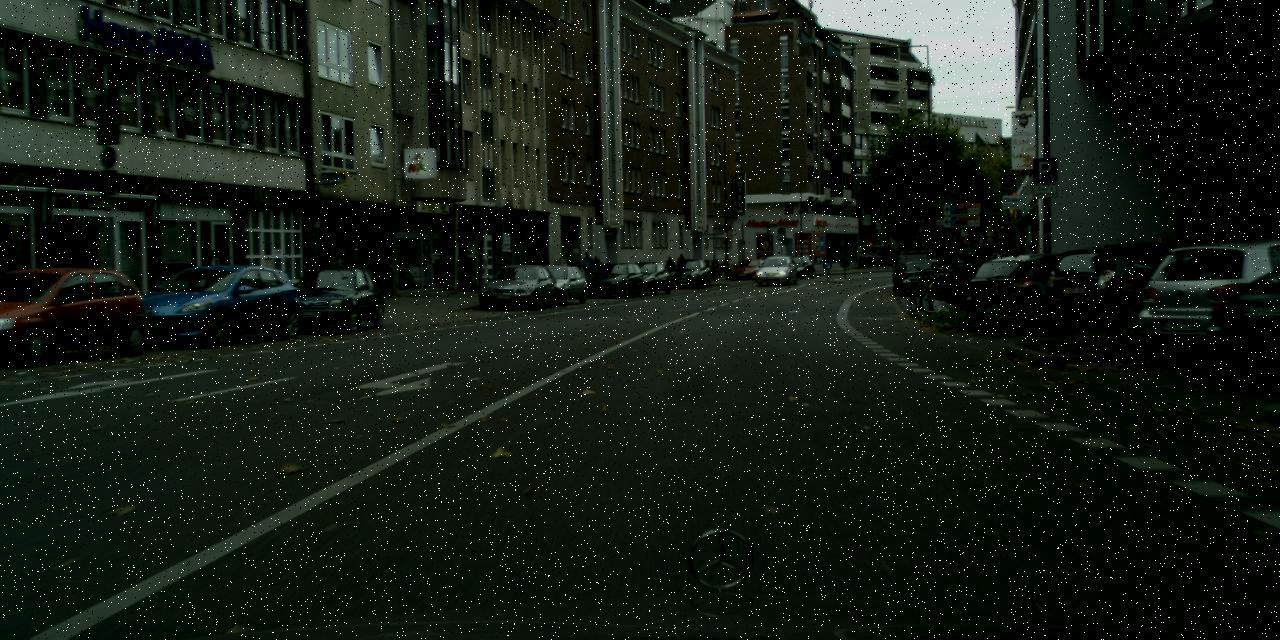ped: (1003, 240, 1024, 290), (990, 246, 1006, 284), (581, 251, 595, 287), (973, 250, 986, 284), (956, 251, 968, 281), (590, 256, 602, 286), (676, 252, 686, 277), (665, 255, 674, 277), (722, 258, 731, 279)
